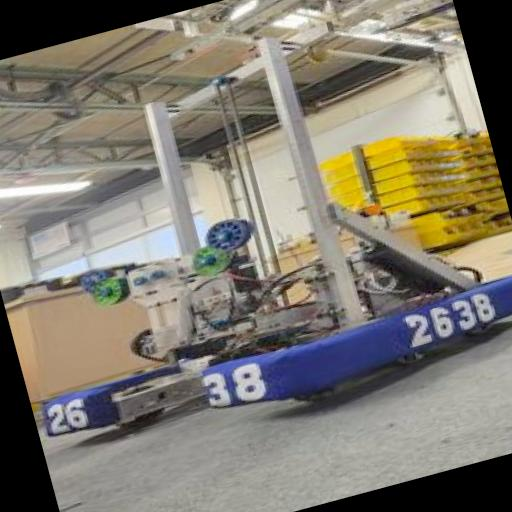robot: (0, 0, 512, 477)
